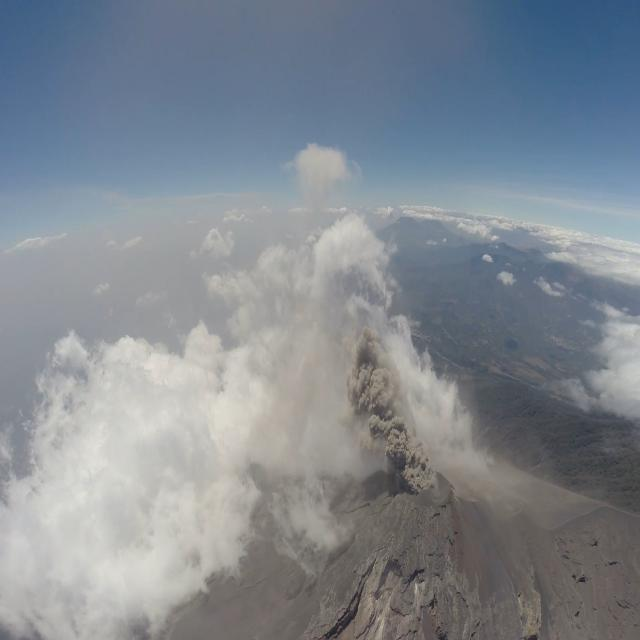Plume: (343, 314, 440, 494)
Summit: (336, 461, 502, 639)
